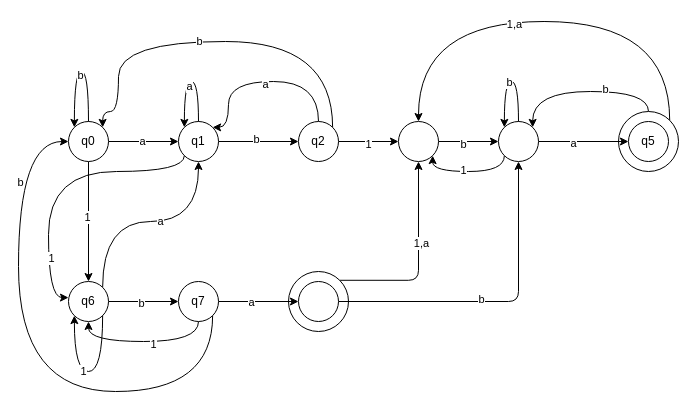
The diagram is 696 pixels wide and 409 high, and some of its shapes have lost their labels. Each missing label, with the centre of its shape:
q3: the point at 418,141
q4: the point at 518,141
q8: the point at 318,301
